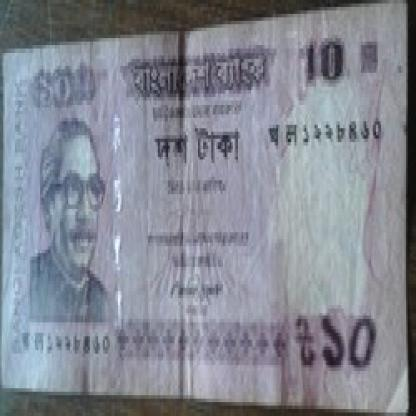Ten Taka: (318, 308, 383, 378), (23, 59, 105, 111), (296, 31, 350, 90)
one hundred taka: (23, 59, 105, 111)
